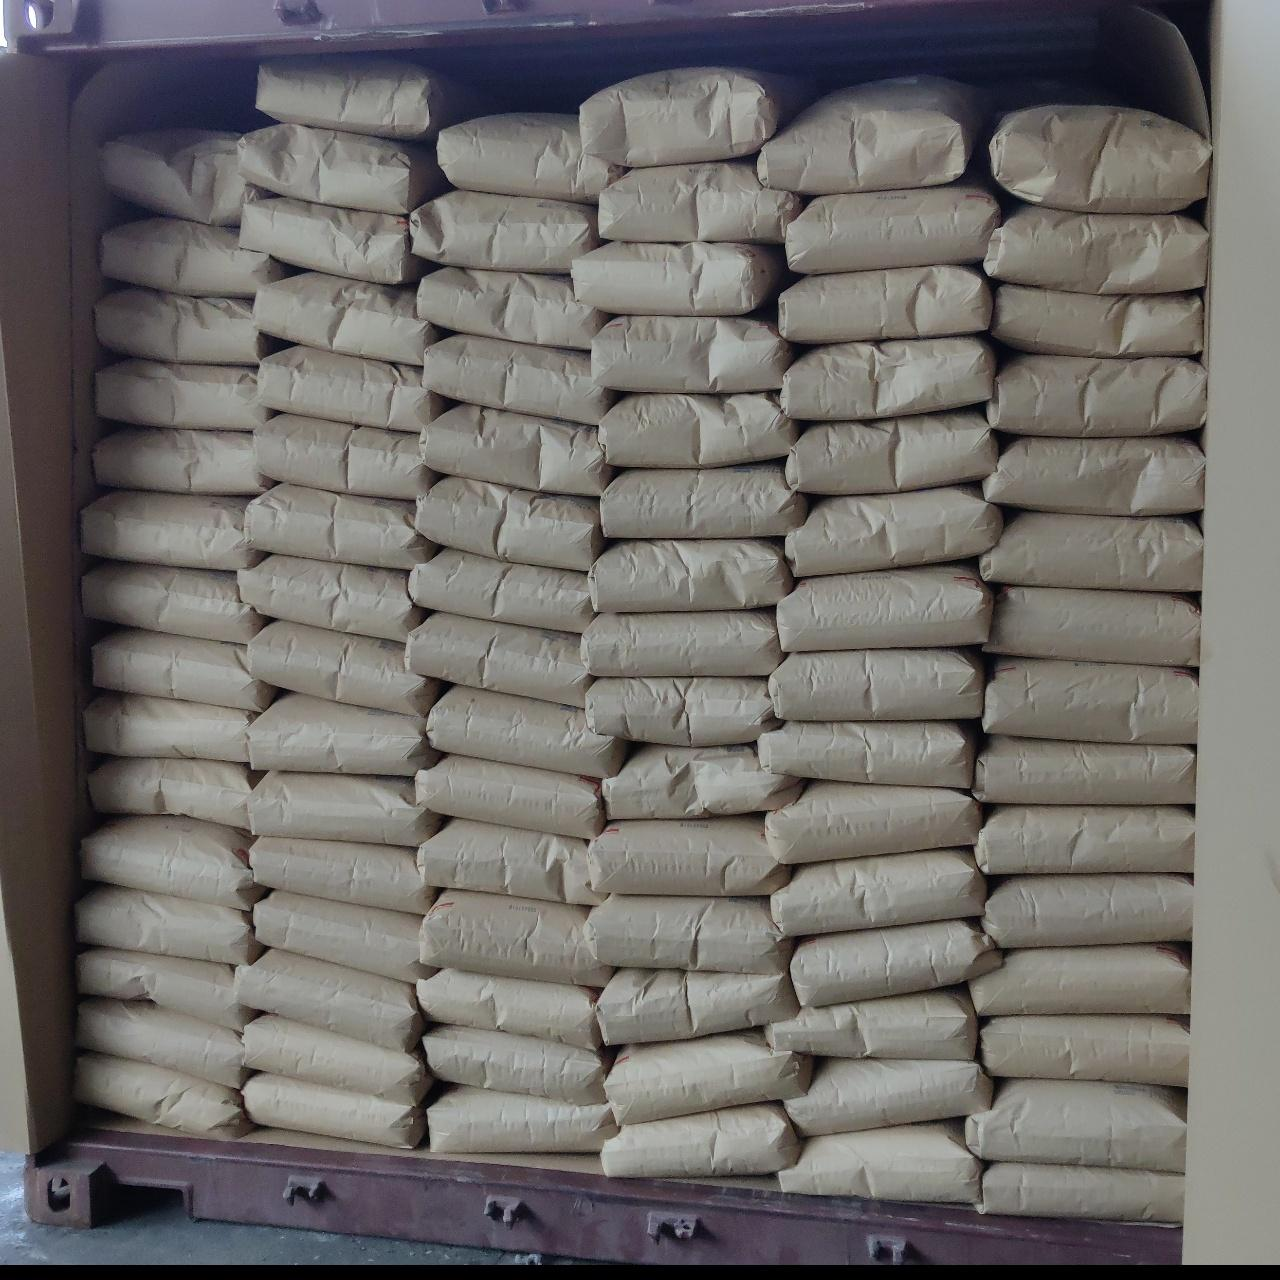sack: (760, 76, 983, 195), (990, 105, 1208, 212), (583, 68, 806, 166), (983, 204, 1206, 292), (968, 1080, 1184, 1167), (606, 1030, 812, 1122), (787, 486, 1000, 574), (240, 124, 445, 215), (772, 847, 986, 934), (778, 564, 990, 651), (784, 184, 998, 270), (982, 658, 1198, 742), (241, 622, 440, 714), (787, 408, 996, 493), (988, 354, 1206, 436), (425, 686, 626, 774), (792, 920, 998, 1006), (236, 952, 422, 1046), (782, 336, 994, 418), (765, 782, 982, 862), (980, 512, 1200, 590), (80, 816, 263, 908), (983, 436, 1204, 512), (424, 334, 614, 422), (424, 892, 608, 982), (600, 158, 799, 241), (422, 406, 610, 493), (416, 478, 602, 566), (241, 1014, 428, 1102), (983, 586, 1198, 662), (256, 272, 436, 362), (779, 1121, 980, 1201), (406, 617, 590, 704), (779, 266, 990, 342), (241, 196, 424, 284), (256, 346, 445, 430), (258, 60, 458, 138), (246, 484, 436, 566), (590, 816, 788, 894), (256, 892, 428, 982), (416, 756, 604, 838), (787, 1058, 990, 1133), (972, 944, 1189, 1014), (572, 241, 788, 312), (992, 284, 1200, 356), (74, 1054, 248, 1141), (238, 556, 422, 638), (250, 694, 438, 774), (438, 114, 617, 198), (590, 316, 792, 390), (76, 998, 246, 1085), (983, 874, 1192, 946), (772, 648, 983, 719), (765, 988, 976, 1058), (602, 462, 806, 535), (588, 896, 792, 968), (94, 628, 274, 710), (598, 968, 798, 1042), (410, 549, 592, 629), (418, 268, 602, 348), (256, 414, 434, 496), (82, 561, 263, 642), (102, 130, 260, 222), (974, 736, 1194, 802), (420, 821, 595, 903), (411, 192, 598, 270), (600, 394, 798, 467), (760, 720, 974, 787), (976, 806, 1194, 872), (602, 745, 799, 818), (76, 886, 260, 964), (79, 948, 252, 1030), (102, 218, 288, 294), (982, 1016, 1189, 1084), (425, 1026, 610, 1102), (600, 1104, 798, 1175), (418, 968, 598, 1046), (248, 772, 438, 844), (82, 490, 260, 566), (592, 540, 790, 608), (98, 288, 274, 365), (250, 838, 433, 910), (244, 1073, 422, 1144), (583, 610, 779, 674), (96, 358, 268, 430), (980, 1162, 1182, 1223), (586, 678, 774, 742), (430, 1085, 614, 1150), (96, 425, 268, 493), (84, 692, 252, 760), (90, 758, 252, 828)
